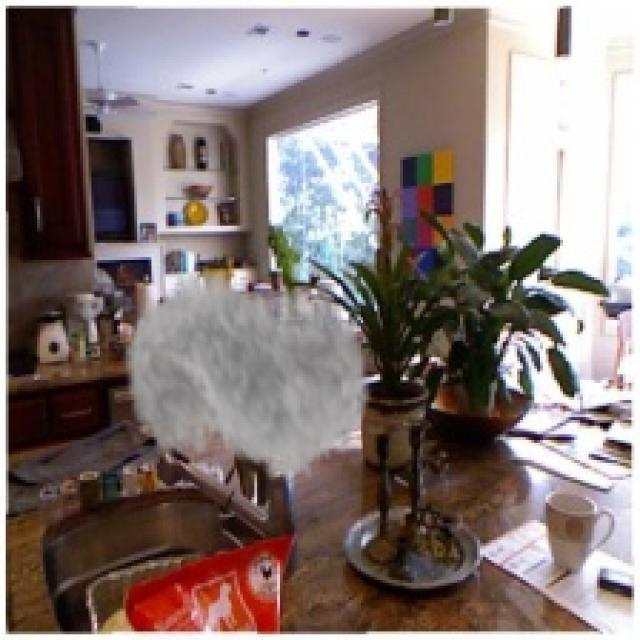Smoke: (122, 240, 372, 503)
